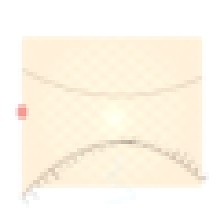foreign_body_visible: (58, 106, 84, 127)
